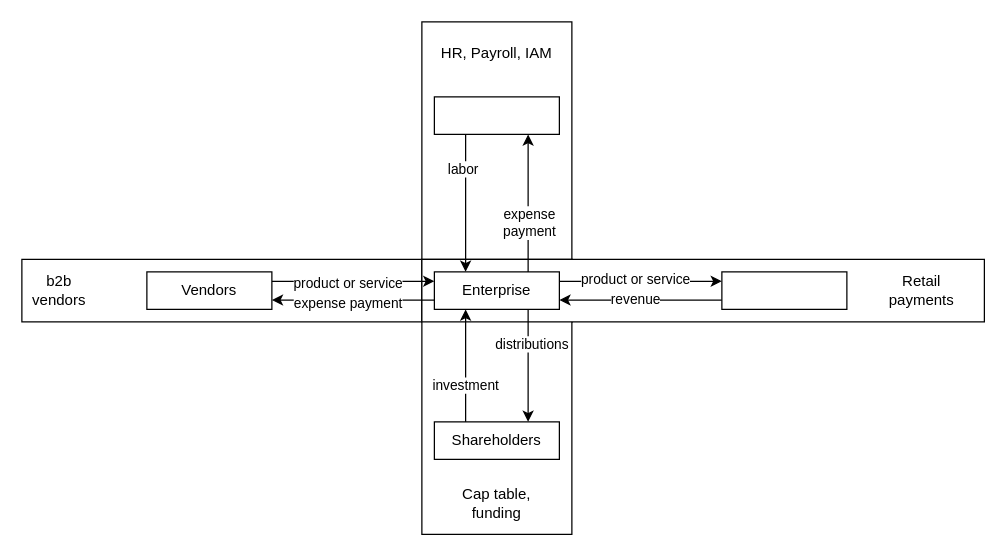
Some shapes in this 1006 by 556 pixel diagram are drawn without their labels. The shapes that lost their labels are listed below. From the top down, each one's box as (x1, y1, x2, y2) in pixels, then its label:
(433, 96, 559, 134): Employees
(721, 271, 847, 309): Customers
